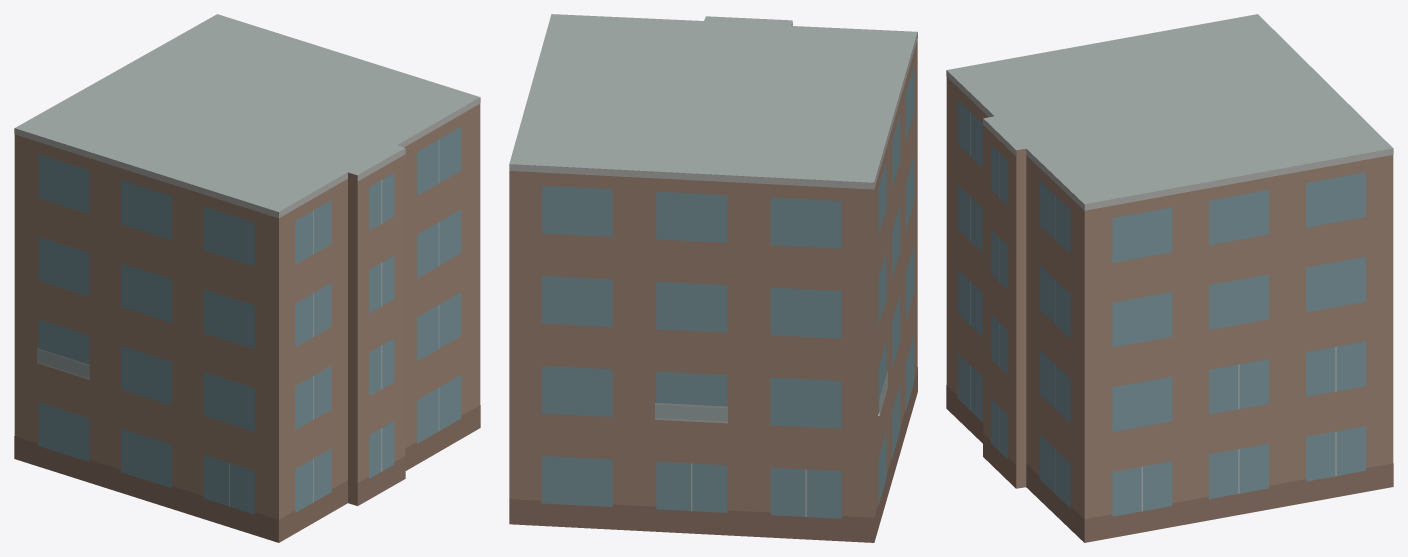
File: survey-upis-32747866.glb
3 renders of one model, left to right at view 1: azimuth 30°, elevation 25°; view 2: azimuth 150°, elevation 25°; view 3: azimuth 270°, elevation 25°, orthographic. The views are drawn at different scales.
Parts seen in each view (by area): view 1: survey-upis-32747866.tmp; view 2: survey-upis-32747866.tmp; view 3: survey-upis-32747866.tmp.
Part boxes in pixels (bbox=[...]): survey-upis-32747866.tmp: bbox=[14, 14, 480, 542]; survey-upis-32747866.tmp: bbox=[509, 14, 917, 542]; survey-upis-32747866.tmp: bbox=[946, 14, 1393, 542].
Bounding box in the file's own units: 15.63 × 12.95 × 15.51.
